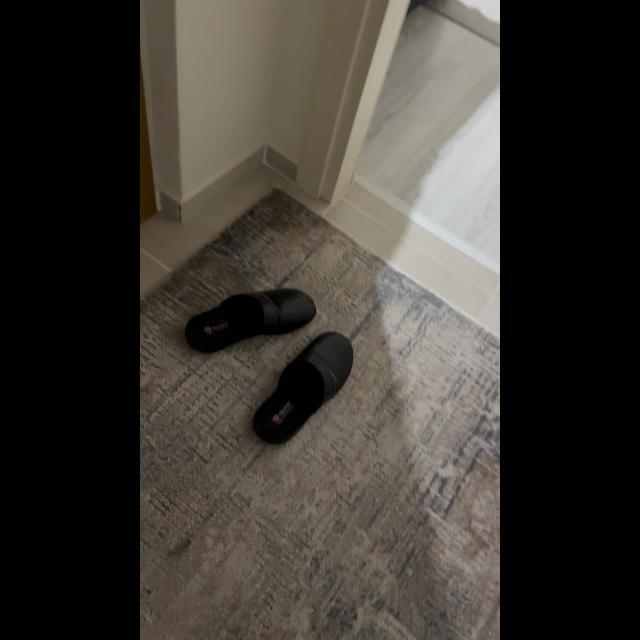slipper: (248, 328, 354, 448), (178, 284, 326, 352)
